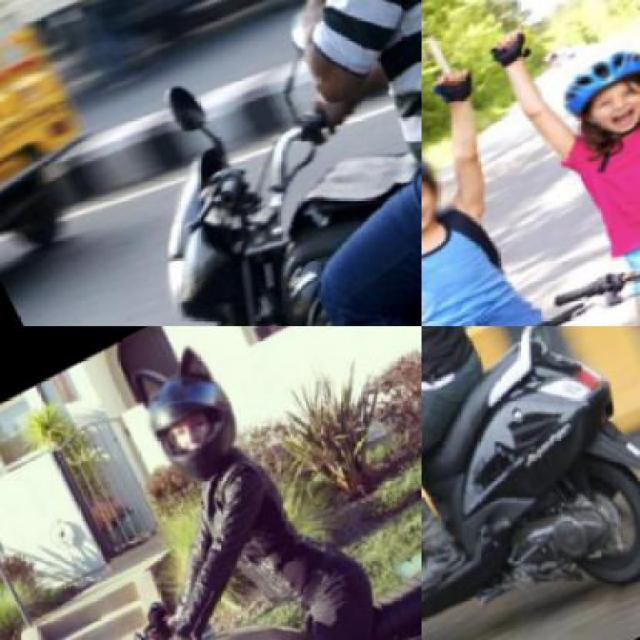With Helmet: (121, 338, 252, 492), (550, 40, 638, 155), (422, 136, 458, 256)
